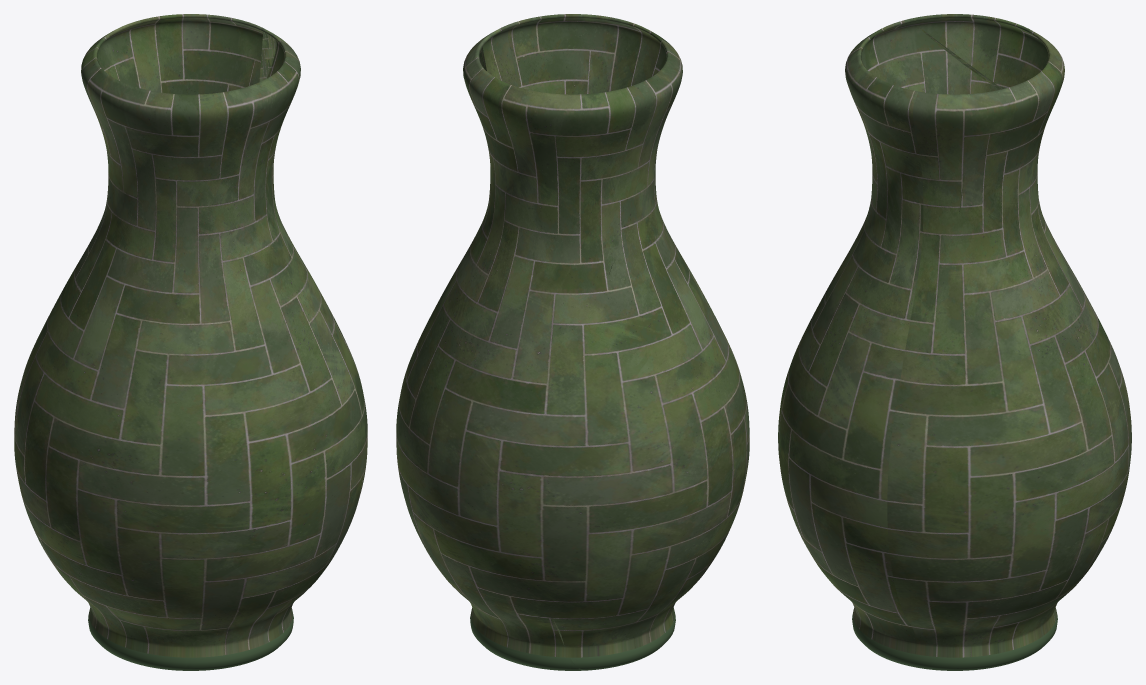
The picture shows the model from 3 angles, left to right: view 1: azimuth 30°, elevation 25°; view 2: azimuth 150°, elevation 25°; view 3: azimuth 270°, elevation 25°; orthographic projection.
Visible parts, largest first — view 1: Cube_cell.017, Cube_cell.002, Cube_cell.016, Cube, Cube_cell.012, Cube_cell.004, Cube_cell.011, Cube_cell.015, Cube_cell.007, Cube_cell.014; view 2: Cube, Cube_cell.012, Cube_cell.011, Cube_cell.017, Cube_cell.002, Cube_cell.004, Cube_cell.005, Cube_cell.014, Cube_cell.007; view 3: Cube, Cube_cell.007, Cube_cell.016, Cube_cell.002, Cube_cell.015, Cube_cell.017, Cube_cell.014, Cube_cell.013, Cube_cell.004.
Boxes of the visible parts, bbox=[...] form: Cube_cell.017: bbox=[47, 233, 317, 576]; Cube_cell.002: bbox=[103, 27, 300, 249]; Cube_cell.016: bbox=[190, 362, 367, 626]; Cube: bbox=[14, 28, 367, 670]; Cube_cell.012: bbox=[27, 334, 201, 617]; Cube_cell.004: bbox=[97, 14, 262, 94]; Cube_cell.011: bbox=[40, 543, 194, 670]; Cube_cell.015: bbox=[186, 602, 293, 670]; Cube_cell.007: bbox=[282, 223, 363, 394]; Cube_cell.014: bbox=[91, 35, 136, 122]; Cube: bbox=[396, 14, 749, 670]; Cube_cell.012: bbox=[535, 370, 749, 575]; Cube_cell.011: bbox=[524, 483, 702, 670]; Cube_cell.017: bbox=[592, 213, 749, 422]; Cube_cell.002: bbox=[482, 28, 682, 248]; Cube_cell.004: bbox=[477, 42, 591, 331]; Cube_cell.005: bbox=[478, 631, 582, 670]; Cube_cell.014: bbox=[595, 57, 681, 162]; Cube_cell.007: bbox=[453, 245, 497, 362]; Cube: bbox=[781, 14, 1131, 670]; Cube_cell.007: bbox=[828, 249, 1070, 559]; Cube_cell.016: bbox=[778, 362, 1002, 617]; Cube_cell.002: bbox=[845, 21, 1001, 252]; Cube_cell.015: bbox=[852, 521, 1091, 670]; Cube_cell.017: bbox=[778, 211, 893, 425]; Cube_cell.014: bbox=[916, 14, 1039, 89]; Cube_cell.013: bbox=[894, 214, 966, 261]; Cube_cell.004: bbox=[959, 34, 1074, 295].
Bounding box in the file's own units: 228 × 414 × 228.
